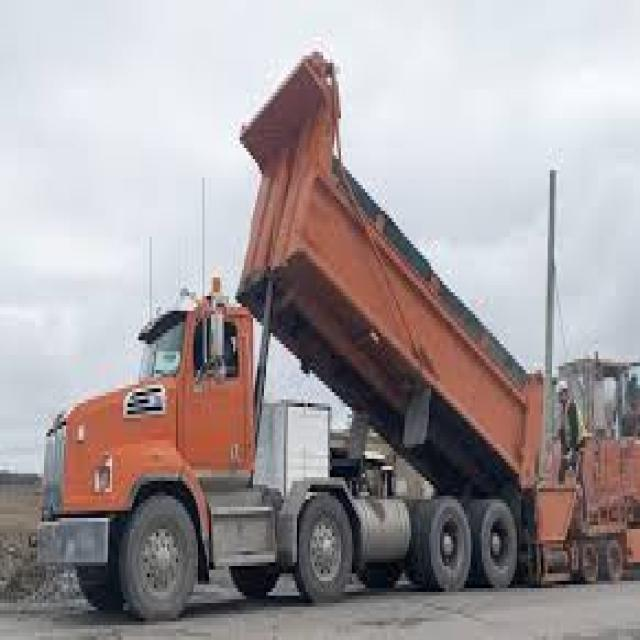dump_truck: (30, 43, 550, 606)
